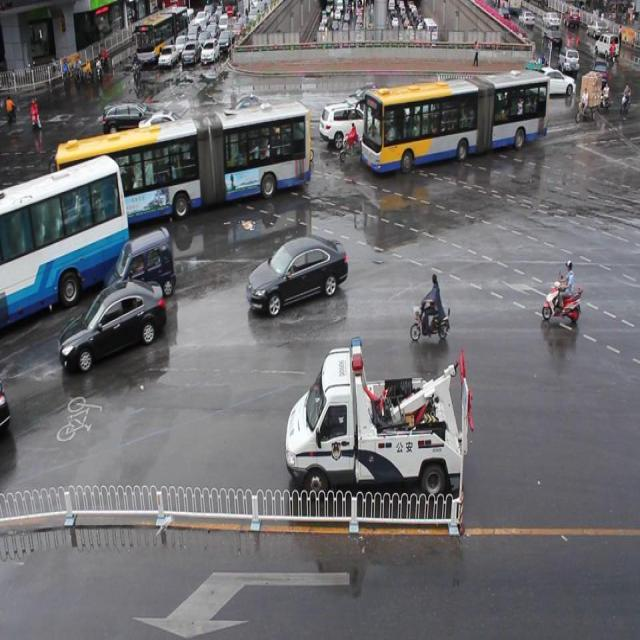bus: (286, 333, 474, 494)
car: (60, 284, 165, 369), (247, 234, 348, 312), (106, 232, 174, 298), (139, 109, 197, 154), (319, 102, 376, 146), (104, 101, 160, 144), (234, 104, 284, 150), (394, 84, 444, 122), (436, 89, 481, 128), (245, 112, 283, 158), (343, 84, 388, 122), (466, 74, 513, 109), (487, 76, 531, 111), (337, 94, 381, 129), (508, 68, 549, 104), (225, 95, 274, 124), (532, 67, 573, 98)
van: (57, 107, 312, 225), (0, 156, 130, 325), (363, 72, 548, 169)
